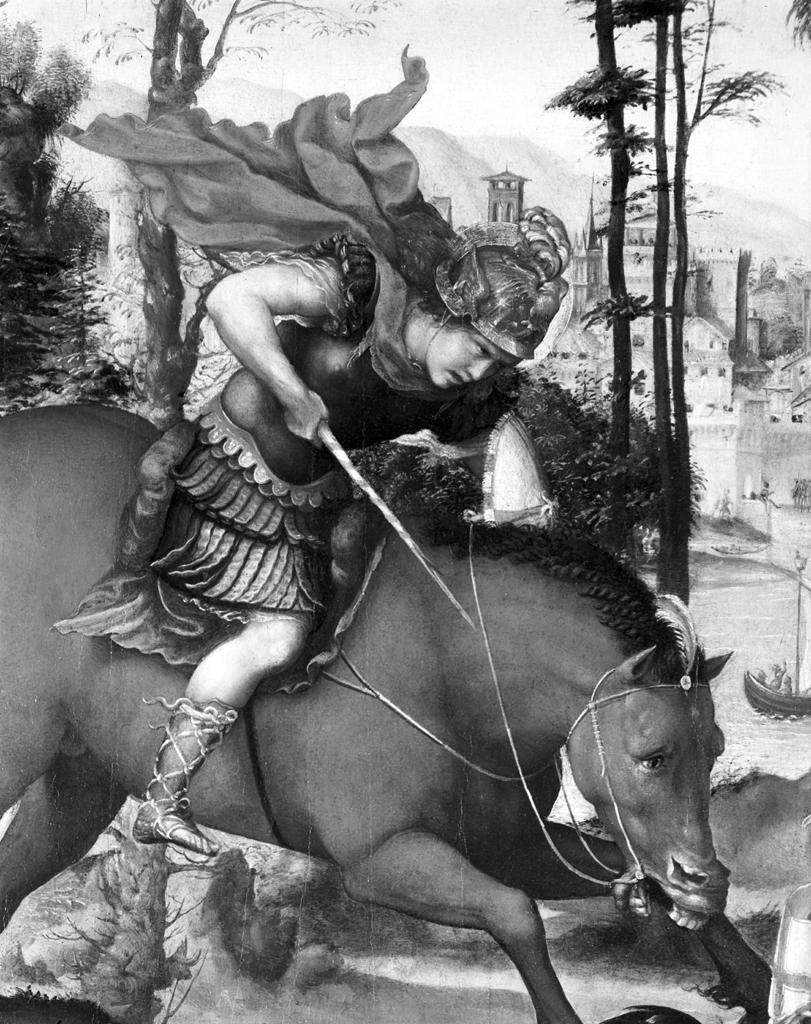boat: (745, 661, 811, 720)
horse: (4, 409, 771, 1024)
knight: (135, 211, 562, 865)
tree: (535, 1, 793, 598), (1, 1, 241, 416)
